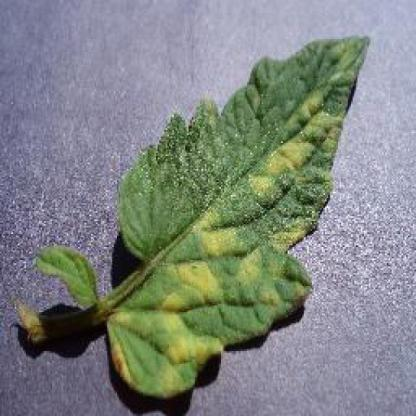Tomato_Leaf_Mold: (108, 34, 373, 394)
